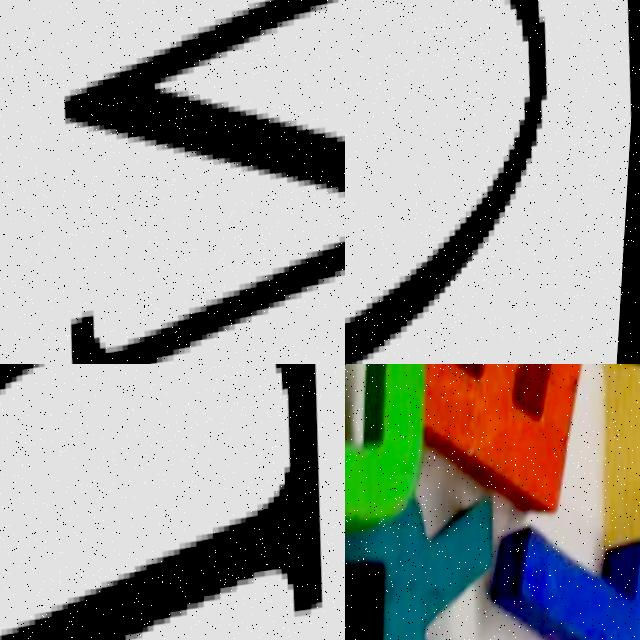C: (345, 0, 549, 364), (345, 364, 449, 544)
D: (0, 364, 345, 640)
E: (391, 364, 609, 509)
K: (345, 458, 511, 640)
N: (21, 0, 345, 364)
T: (496, 515, 640, 640)
